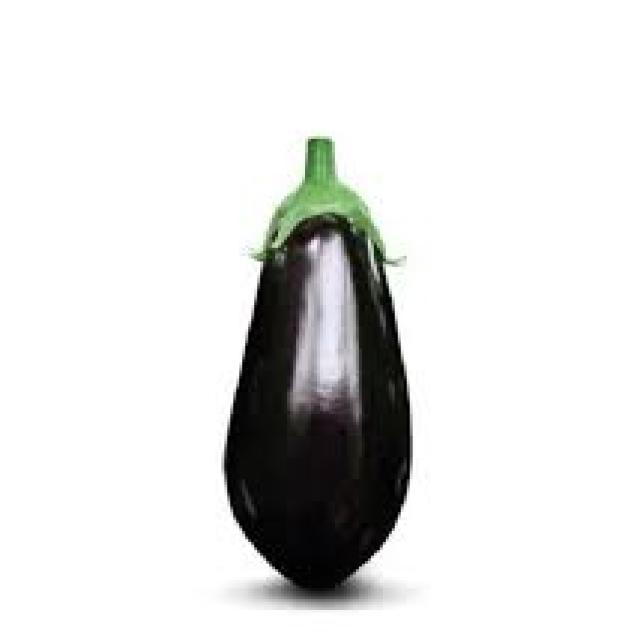eggplant: (221, 131, 410, 588)
